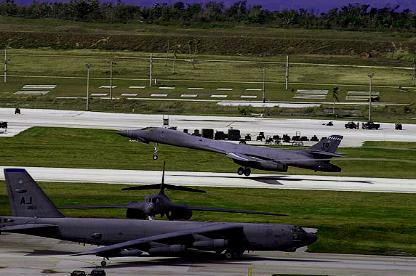AV8B: (58, 160, 290, 220), (115, 126, 349, 176)
B2: (2, 168, 318, 266)
